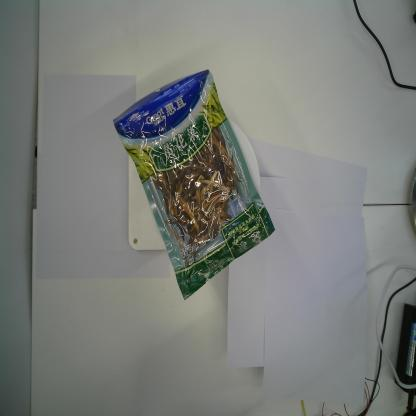Dried Food: (112, 68, 276, 303)
